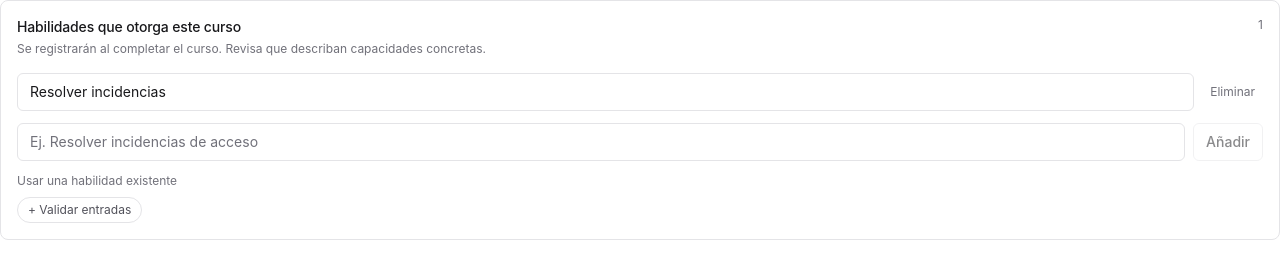
Test case: CourseSkillsEditor › reuses an existing skill without duplicating it
Click the button "+ Validar entradas". click: (80, 210)
box: [17,197,142,223]
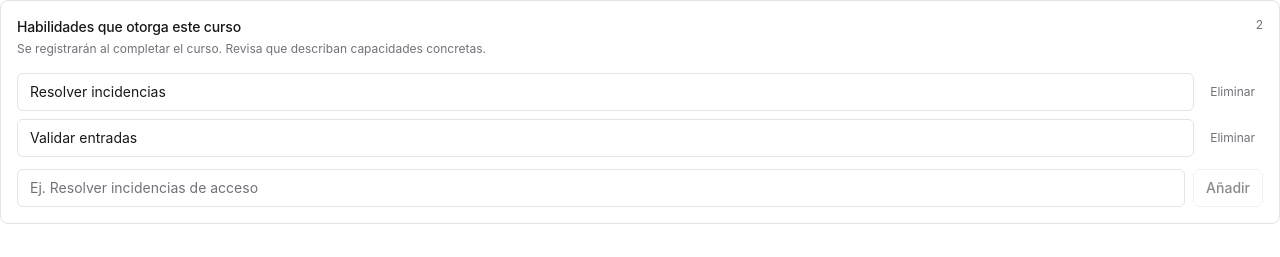
expect the field named "Habilidad 2" holds "Validar entradas": met, box [17,119,1194,157]
expect the button "+ Validar entradas" is gone: met
